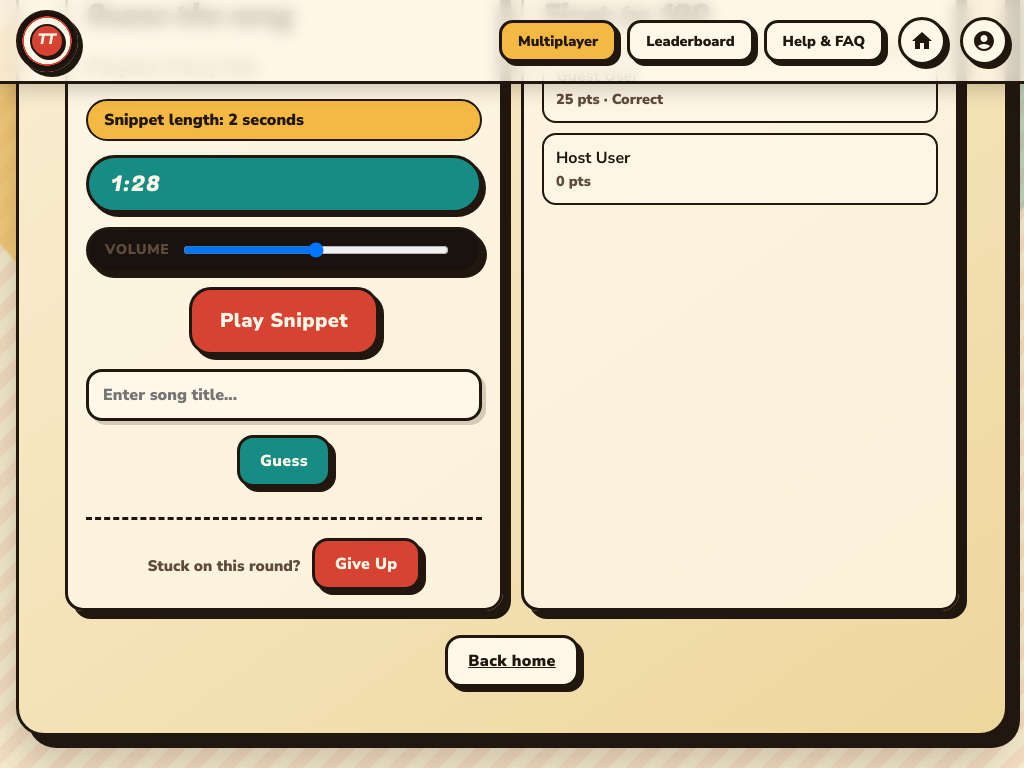
Multiplayer page › filters song suggestions only after typing in multiplayer gameplay
(page scrolled)
Click the field with placeholder "Enter song title...": [284, 395] box [86,369,482,421]
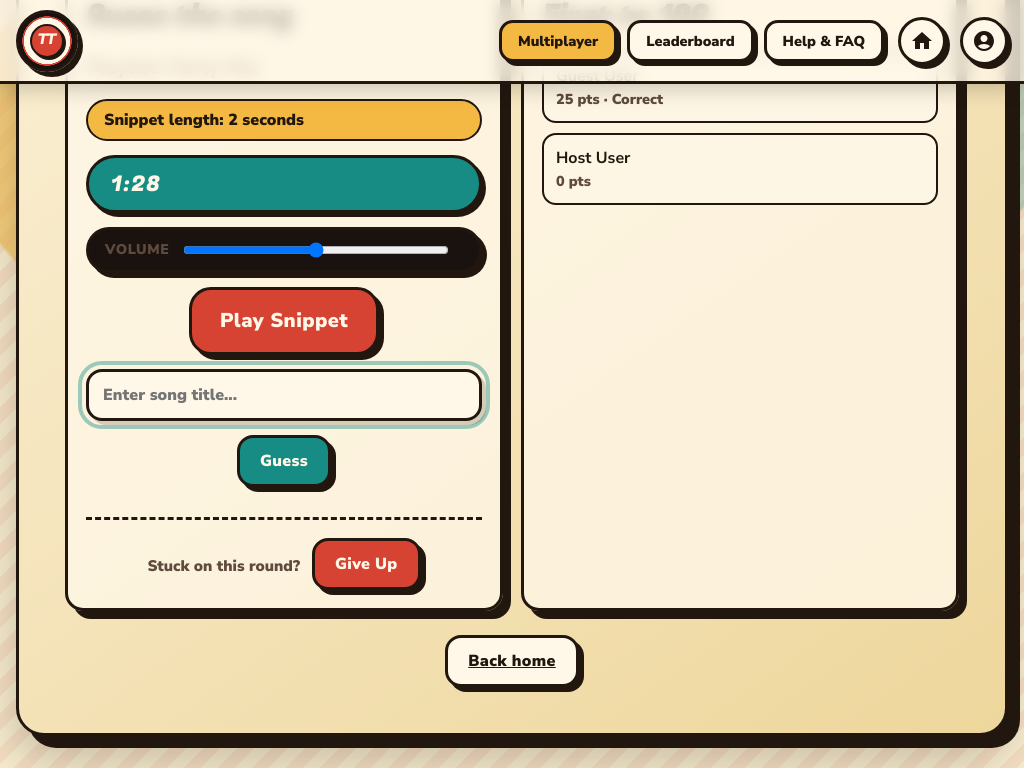
expect the button "second song - artist two" is not shown: met
In the field with placeholder "Enter song title...": [284, 395] box [86,369,482,421], type "sec"
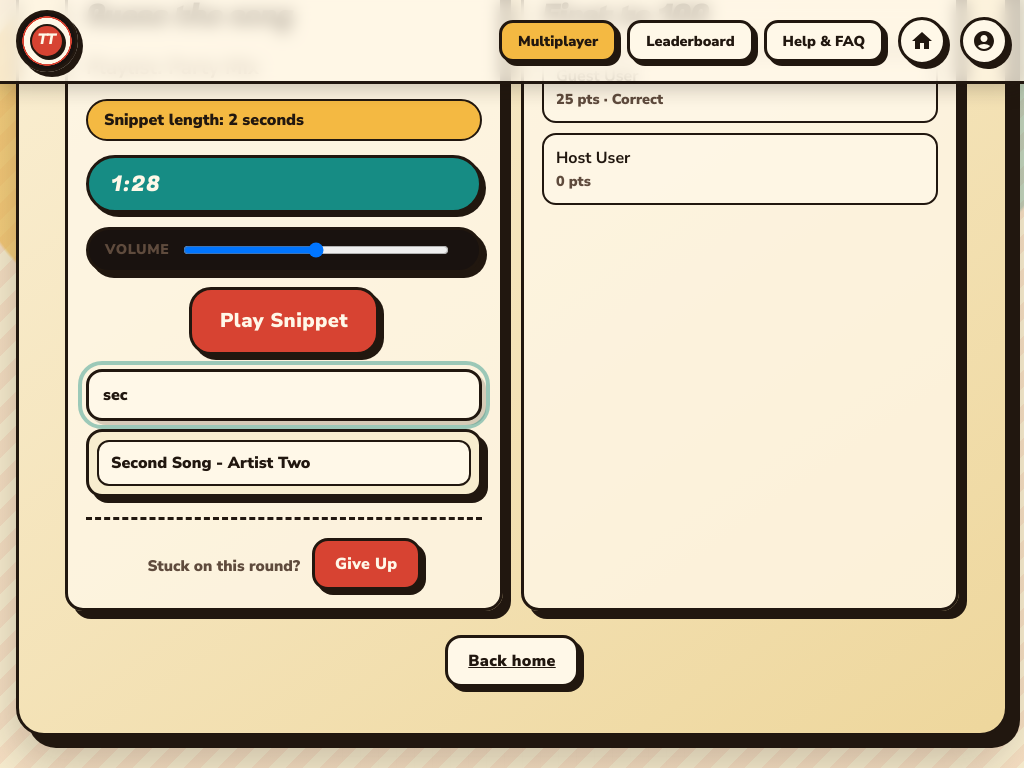
expect the button "Second Song - Artist Two" is shown: met, box [97,440,471,486]
